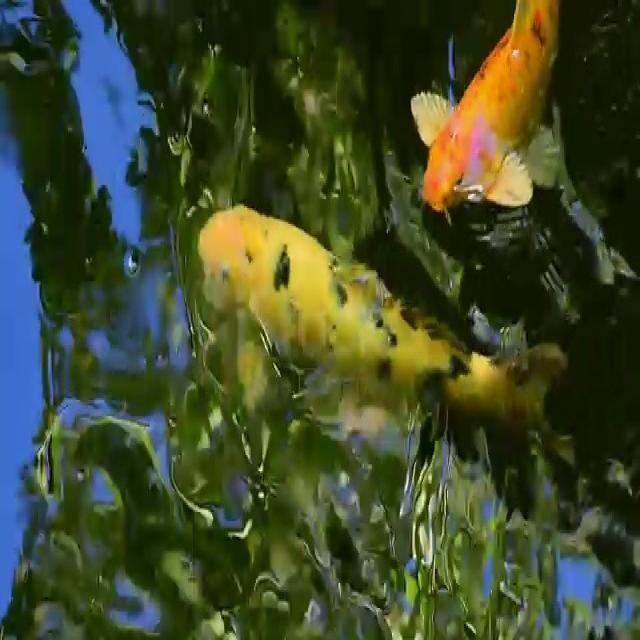fish: (197, 204, 569, 414), (397, 0, 581, 213)
